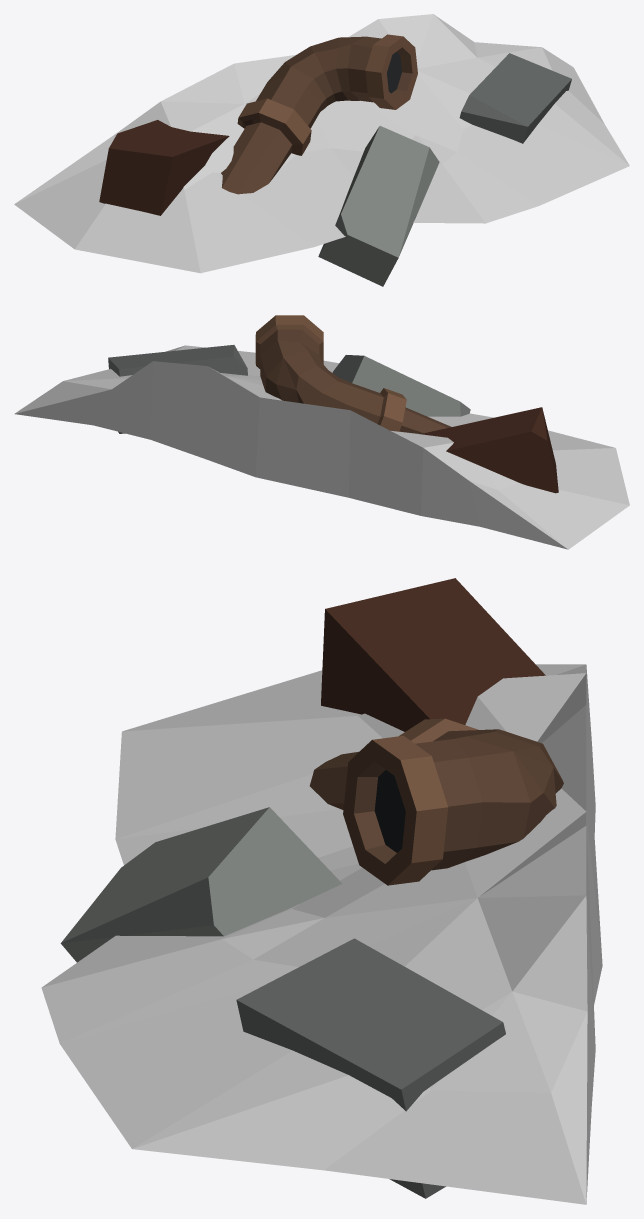
File: SM_Prop_Debris_Straight_Long_02.fbx
The picture shows the model from 3 angles, top to bottom: view 1: azimuth 30°, elevation 25°; view 2: azimuth 150°, elevation 25°; view 3: azimuth 270°, elevation 25°; orthographic projection. The views are drawn at different scales.
Visible parts, largest first — view 1: SM_Prop_Debris_Straight_Long_02; view 2: SM_Prop_Debris_Straight_Long_02; view 3: SM_Prop_Debris_Straight_Long_02.
Boxes of the visible parts, x1,y1,x2,y2 form: SM_Prop_Debris_Straight_Long_02: [14, 14, 629, 286]; SM_Prop_Debris_Straight_Long_02: [14, 315, 629, 549]; SM_Prop_Debris_Straight_Long_02: [41, 578, 602, 1204].
Size of the model in its own units: 146 by 44.99 by 63.69.
